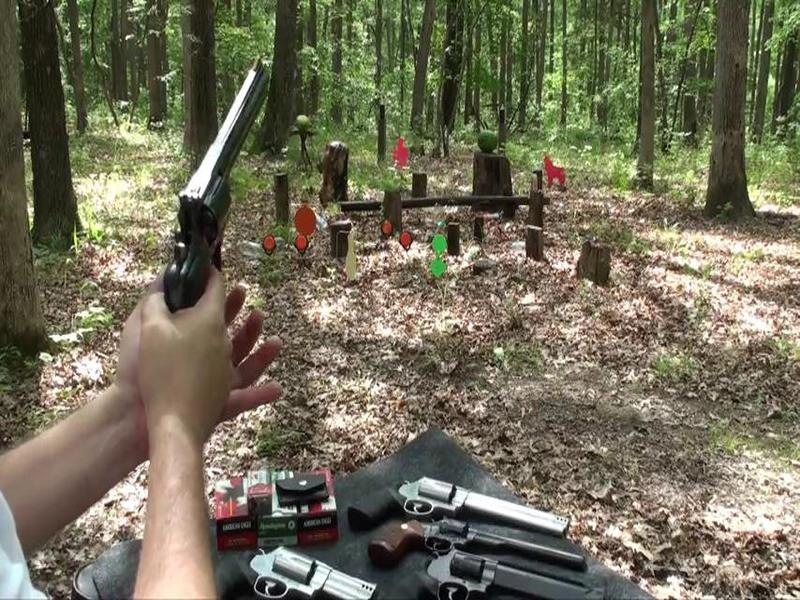Revolver: (151, 53, 294, 355)
